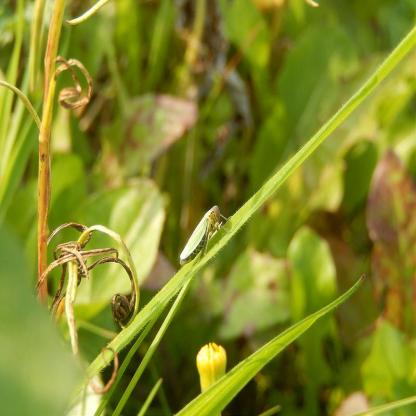Green-Leafhopper: (179, 204, 232, 267)
